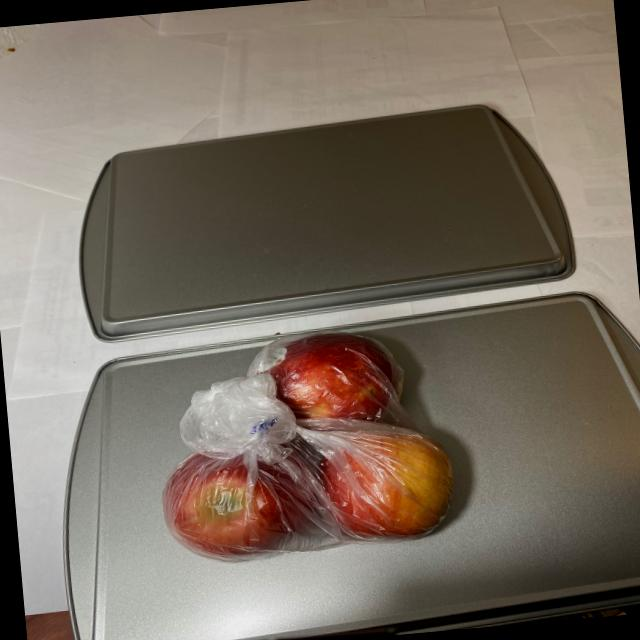apple: (150, 319, 472, 572)
